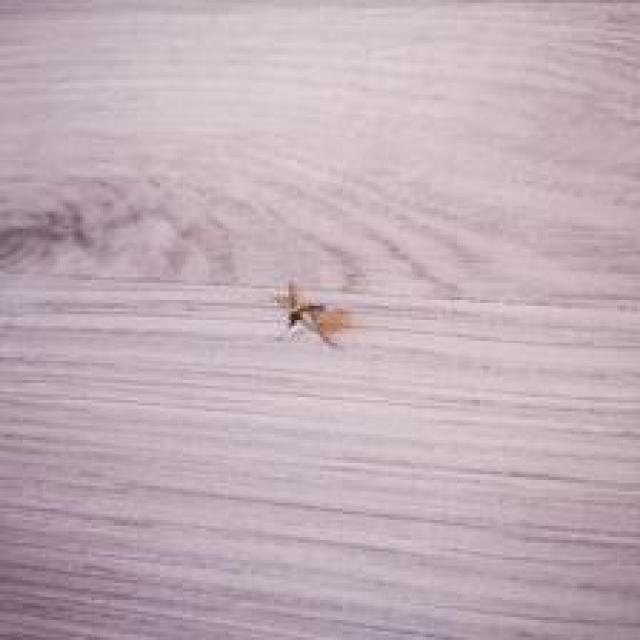Culex: (273, 279, 353, 350)
